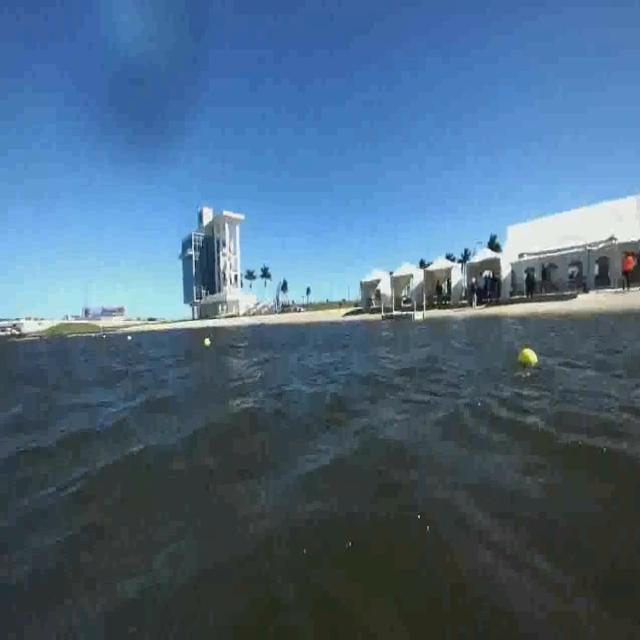yellow-buoy: (518, 349, 538, 366), (204, 337, 212, 350)
